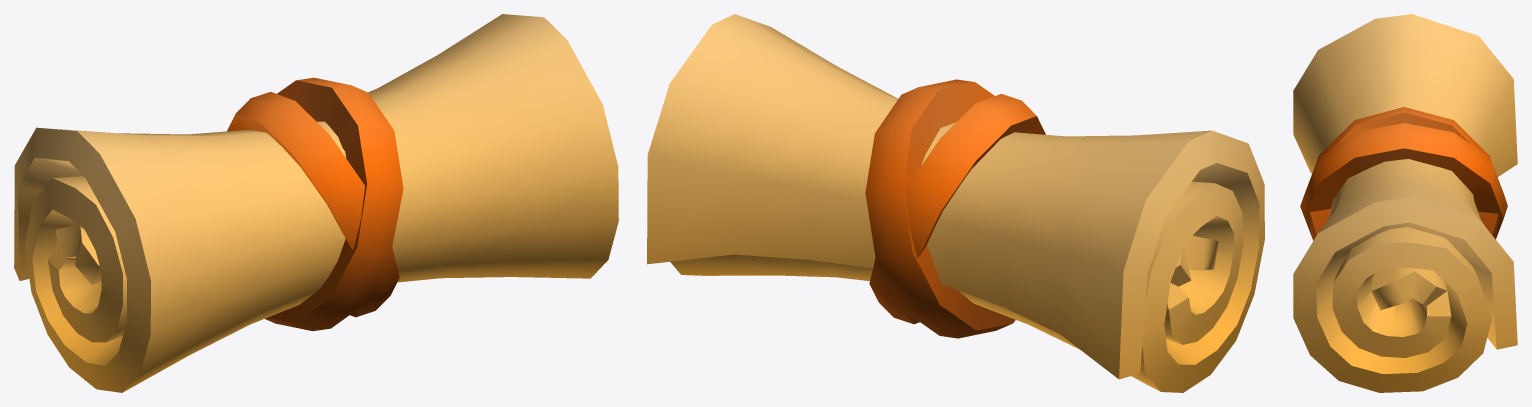
File: Collectable_Scroll_01.fbx
The picture shows the model from 3 angles, left to right: view 1: azimuth 30°, elevation 25°; view 2: azimuth 150°, elevation 25°; view 3: azimuth 270°, elevation 25°; orthographic projection. The views are drawn at different scales.
Parts seen in each view (by area): view 1: Collectable_Scroll_01; view 2: Collectable_Scroll_01; view 3: Collectable_Scroll_01.
Boxes of the visible parts, x1,y1,x2,y2 form: Collectable_Scroll_01: [14, 14, 618, 392]; Collectable_Scroll_01: [647, 14, 1264, 392]; Collectable_Scroll_01: [1293, 14, 1517, 392].
Bounding box in the file's own units: 77.86 × 37.04 × 38.59.
